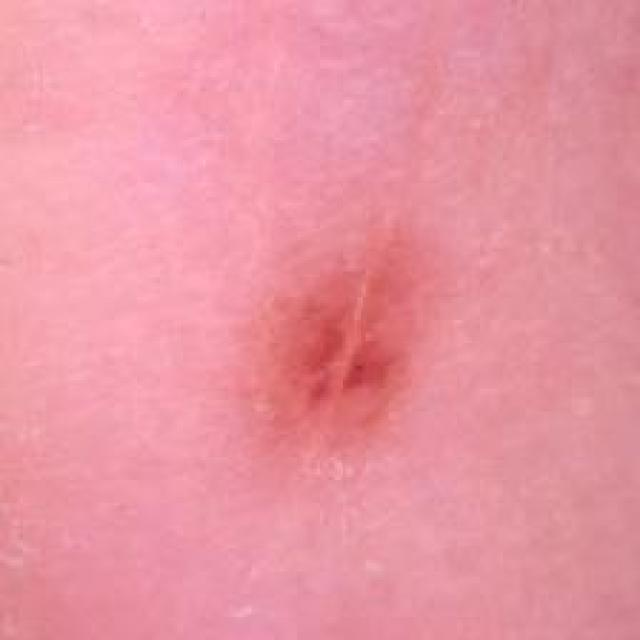Cancer: (225, 216, 499, 477)
